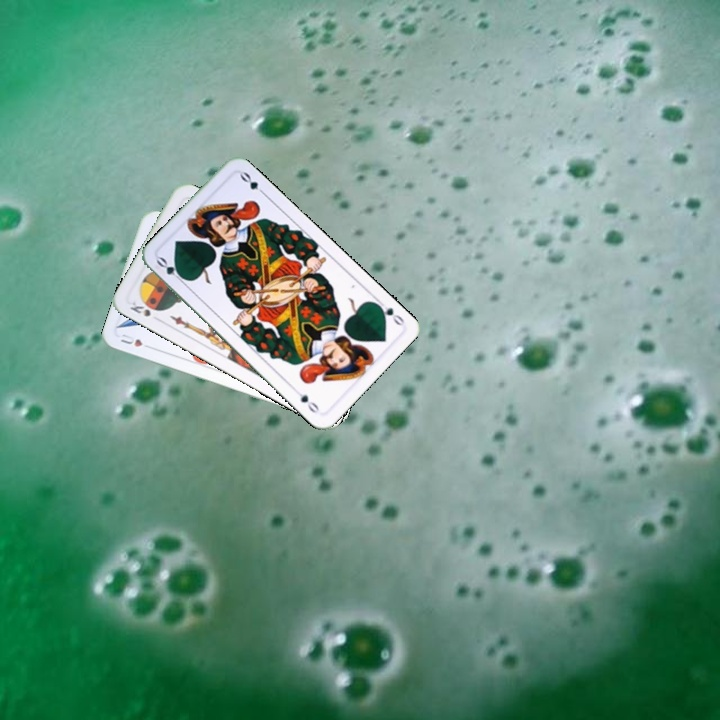GO: (152, 252, 189, 286), (371, 296, 407, 328)
HU: (117, 330, 155, 352)
SK: (126, 297, 161, 319)
